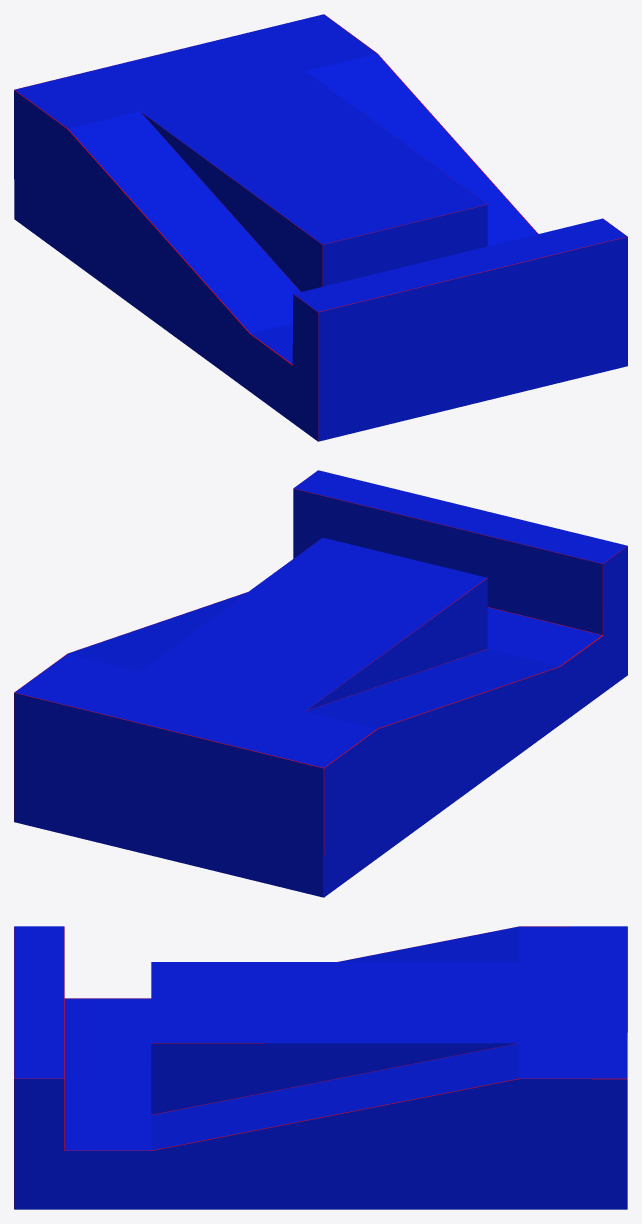
Rendered from L6_Platform.fbx.
3 views of the same model, one above another, from view 1: azimuth 30°, elevation 25°; view 2: azimuth 150°, elevation 25°; view 3: azimuth 270°, elevation 25° (orthographic).
Visible parts, largest first — view 1: L6_Platform; view 2: L6_Platform; view 3: L6_Platform.
Part boxes in pixels (x1,y1,x2,y2): L6_Platform: (14,14,627,441); L6_Platform: (14,470,627,897); L6_Platform: (14,926,627,1209).
Bounding box in the file's own units: 1003 × 400 × 1701.
